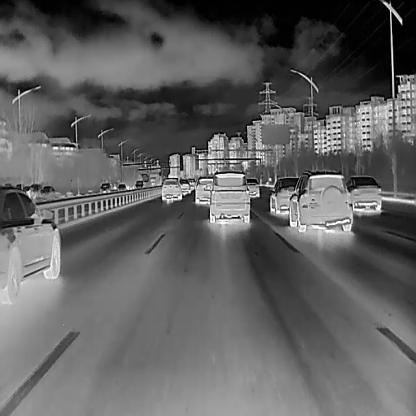car: (0, 185, 60, 306), (286, 169, 353, 231), (202, 168, 251, 223), (344, 175, 381, 215), (268, 177, 301, 215), (195, 175, 215, 205), (160, 176, 182, 201), (245, 176, 260, 197), (178, 177, 191, 195), (39, 184, 56, 196), (141, 172, 152, 188), (149, 172, 160, 188), (27, 182, 40, 195), (133, 178, 145, 190), (115, 182, 127, 193), (99, 182, 110, 193), (188, 177, 196, 189)
